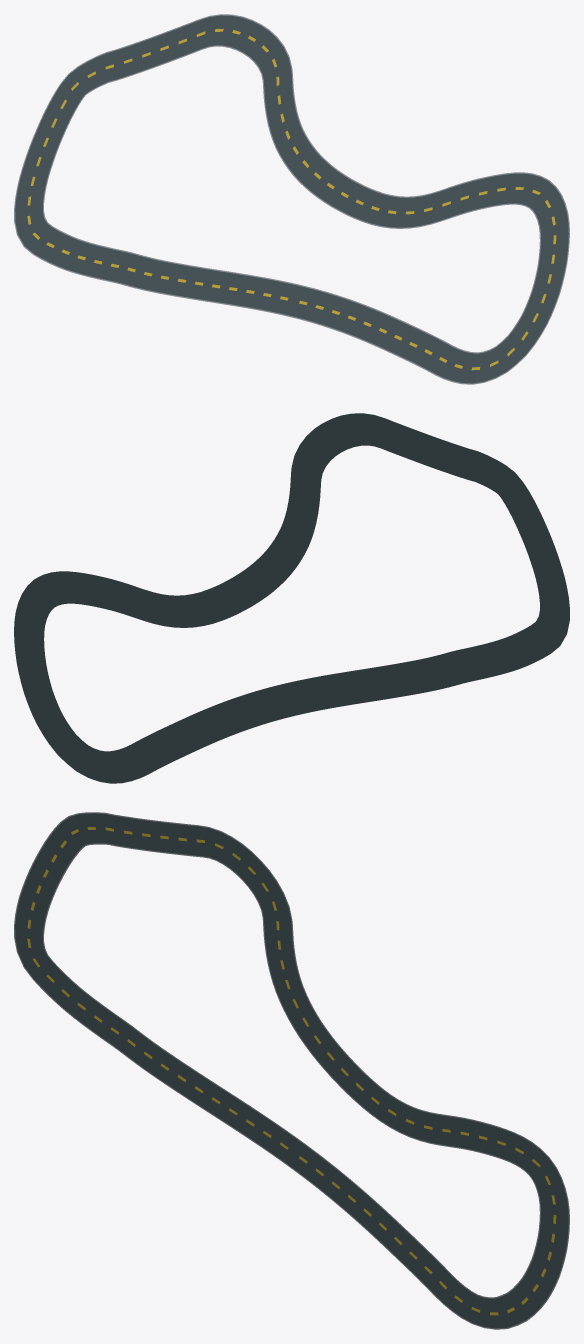
The model's file is track.obj.
3 views of the same model, one above another, from view 1: azimuth 30°, elevation 25°; view 2: azimuth 150°, elevation 25°; view 3: azimuth 330°, elevation 25° (orthographic).
Bounding box in the file's own units: 19.7 × 14.7 × 0.002.
3 materials, 3 textured.
